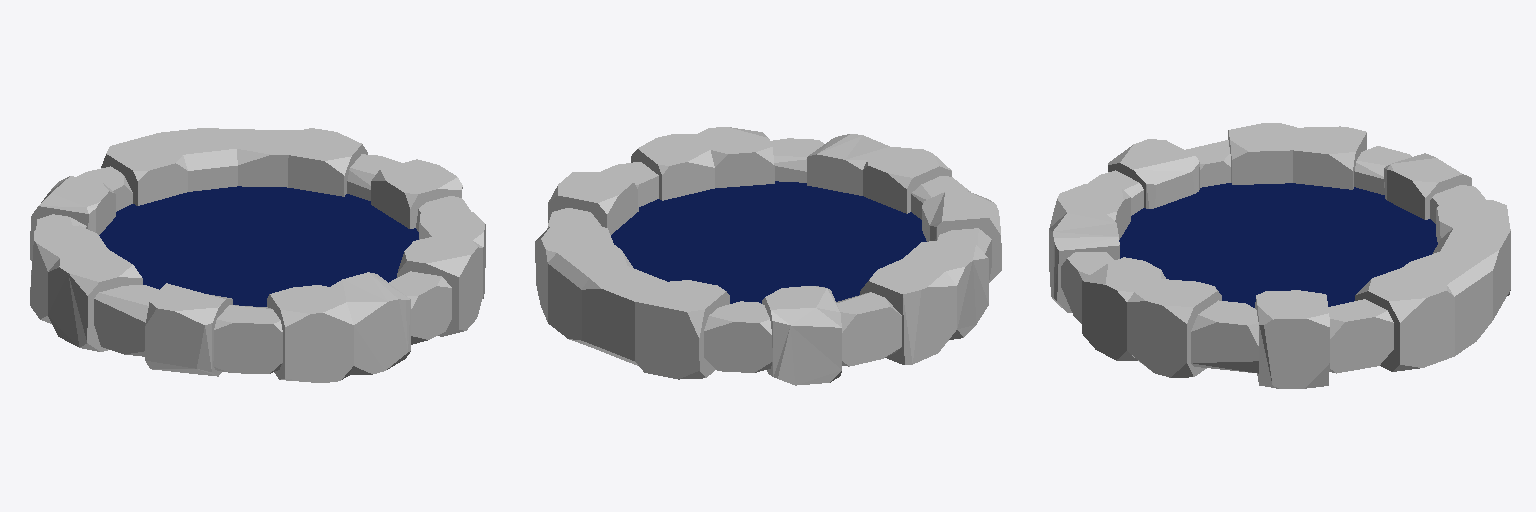
The model's file is portalExit1.obj.
3 views of the same model, side by side, from view 1: azimuth 30°, elevation 25°; view 2: azimuth 150°, elevation 25°; view 3: azimuth 270°, elevation 25° (orthographic).
Visible parts, largest first — view 1: PortalSurface_low_Plane.008; view 2: PortalSurface_low_Plane.008; view 3: PortalSurface_low_Plane.008.
Boxes of the visible parts, box(x1,y1,x2,y2) form: PortalSurface_low_Plane.008: box(30, 128, 485, 382); PortalSurface_low_Plane.008: box(535, 127, 1001, 385); PortalSurface_low_Plane.008: box(1049, 123, 1510, 388).
Bounding box in the file's own units: 2.66 × 0.4746 × 2.67.